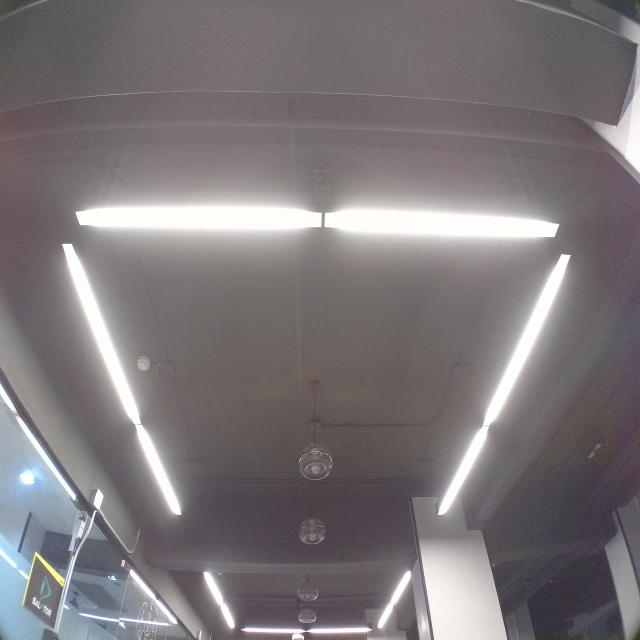lamp2_on: (427, 251, 580, 528), (52, 237, 192, 522), (67, 188, 573, 248)
